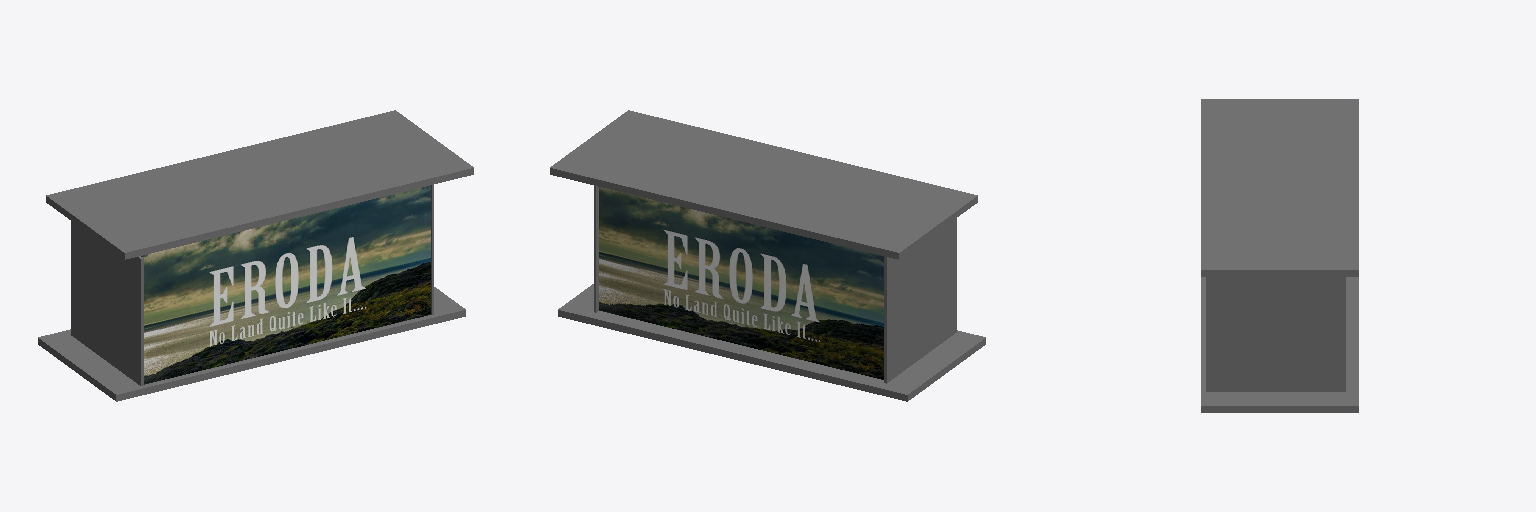
3 views of the same model, side by side, from view 1: azimuth 30°, elevation 25°; view 2: azimuth 150°, elevation 25°; view 3: azimuth 270°, elevation 25° (orthographic).
Parts seen in each view (by area): view 1: Box001, Box005, Box003, Box004; view 2: Box001, Box005, Box003, Box004, Box002; view 3: Box005, Box002, Box004.
Boxes of the visible parts, box(x1,y1,x2,y2) form: Box001: box(141, 185, 430, 384); Box005: box(46, 110, 473, 259); Box003: box(71, 221, 143, 385); Box004: box(38, 287, 465, 401); Box001: box(599, 187, 883, 379); Box005: box(550, 110, 977, 259); Box003: box(884, 218, 956, 383); Box004: box(558, 284, 985, 401); Box002: box(594, 186, 598, 312); Box005: box(1201, 99, 1358, 276); Box002: box(1206, 277, 1345, 391); Box004: box(1201, 277, 1358, 412).
Size of the model in its own units: 8.38 by 3.28 by 3.19.
2 materials, 1 textured.